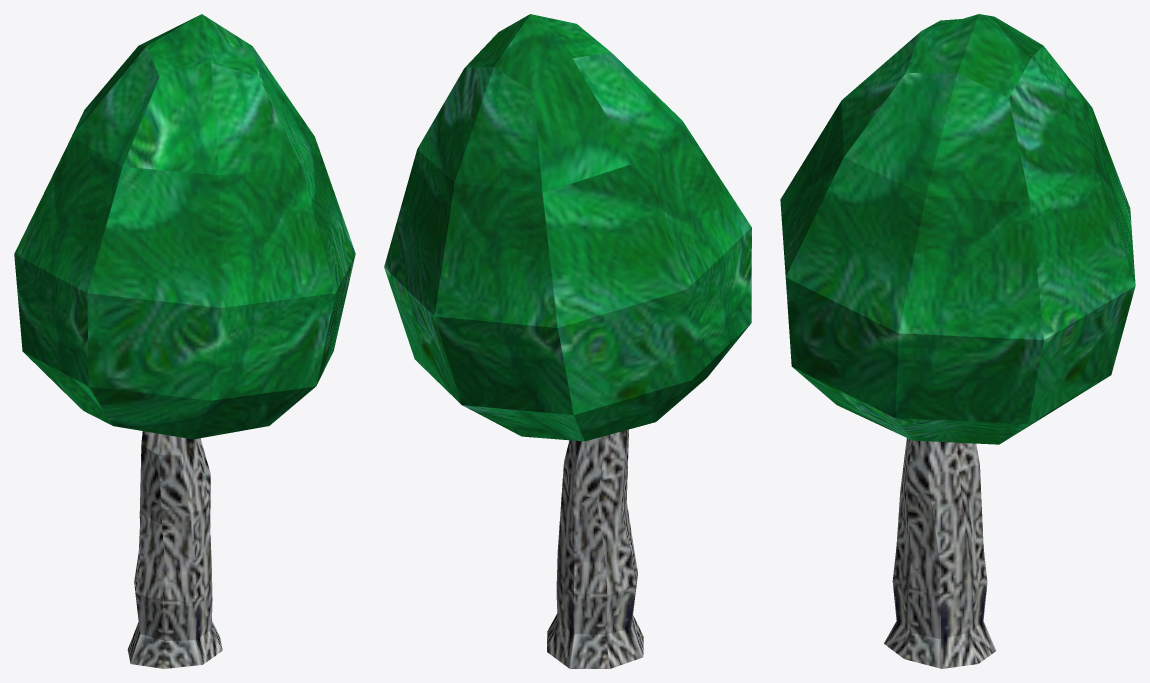
File: JungleTree.fbx
3 renders of one model, left to right at view 1: azimuth 30°, elevation 25°; view 2: azimuth 150°, elevation 25°; view 3: azimuth 270°, elevation 25°, orthographic. The views are drawn at different scales.
Parts seen in each view (by area): view 1: Cube.003, Cube.002; view 2: Cube.003, Cube.002; view 3: Cube.003, Cube.002.
Boxes of the visible parts, x1,y1,x2,y2 form: Cube.003: (14, 14, 355, 439); Cube.002: (127, 431, 222, 668); Cube.003: (384, 14, 751, 441); Cube.002: (547, 429, 643, 668); Cube.003: (780, 14, 1135, 444); Cube.002: (884, 438, 995, 668).
Size of the model in its own units: 197 by 405 by 197.
